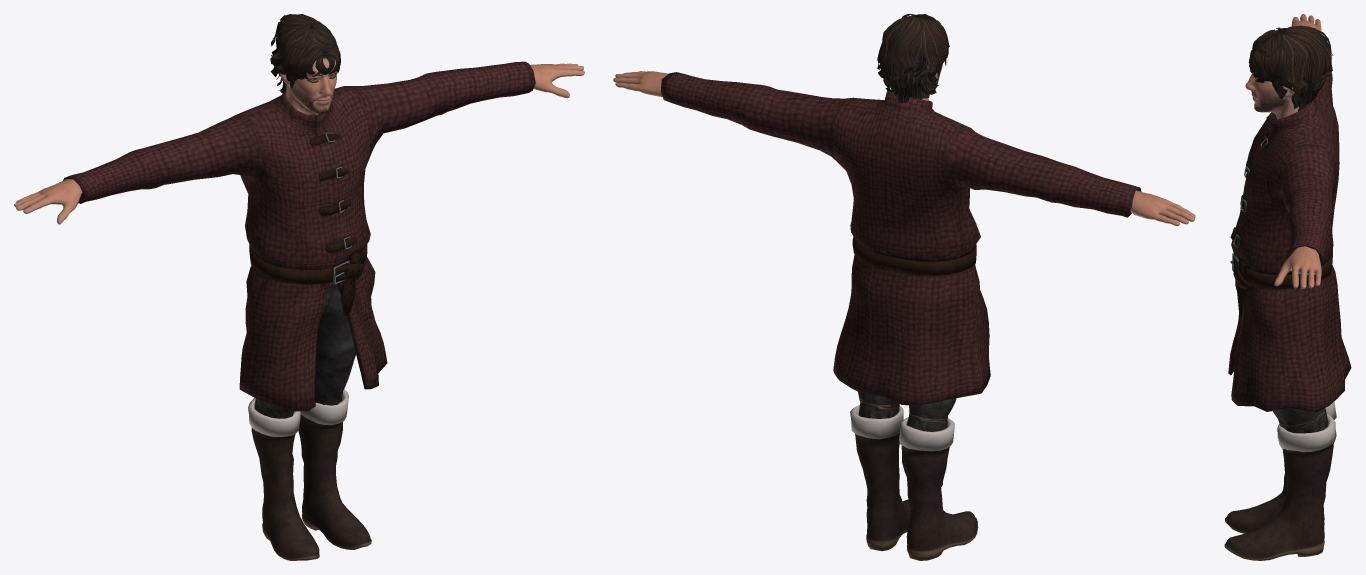
Rendered from dealer2.obj.
The picture shows the model from 3 angles, left to right: view 1: azimuth 30°, elevation 25°; view 2: azimuth 150°, elevation 25°; view 3: azimuth 270°, elevation 25°; orthographic projection. The views are drawn at different scales.
Parts seen in each view (by area): view 1: Tops, Shoes, Body, Bottoms, Hair; view 2: Tops, Shoes, Hair, Body, Bottoms; view 3: Tops, Shoes, Hair, Body, Bottoms.
Boxes of the visible parts, left/top/right/bottom form: Tops: left=63, top=61, right=535, bottom=411; Shoes: left=248, top=389, right=371, bottom=560; Body: left=14, top=57, right=584, bottom=224; Bottoms: left=254, top=282, right=355, bottom=418; Hair: left=270, top=14, right=340, bottom=92; Tops: left=660, top=72, right=1141, bottom=405; Shoes: left=850, top=405, right=978, bottom=560; Hair: left=877, top=14, right=949, bottom=103; Body: left=613, top=65, right=1195, bottom=226; Bottoms: left=858, top=392, right=956, bottom=431; Tops: left=1228, top=28, right=1351, bottom=412; Shoes: left=1224, top=401, right=1336, bottom=560; Hair: left=1248, top=25, right=1333, bottom=112; Body: left=1245, top=14, right=1321, bottom=288; Bottoms: left=1251, top=269, right=1328, bottom=433.
Size of the model in its own units: 212 by 185 by 41.44.
5 materials, 5 textured.
